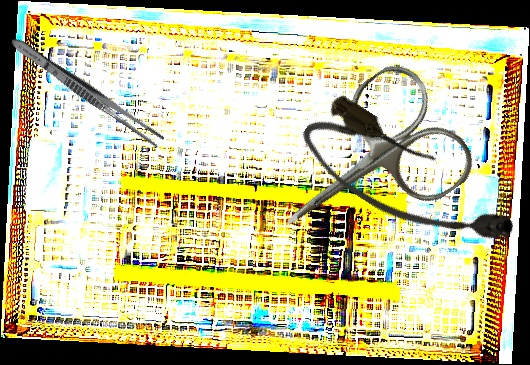Cannula: (290, 87, 525, 278)
Dressing Forceps: (6, 33, 168, 150)
Iris Scissors: (245, 55, 484, 279)
